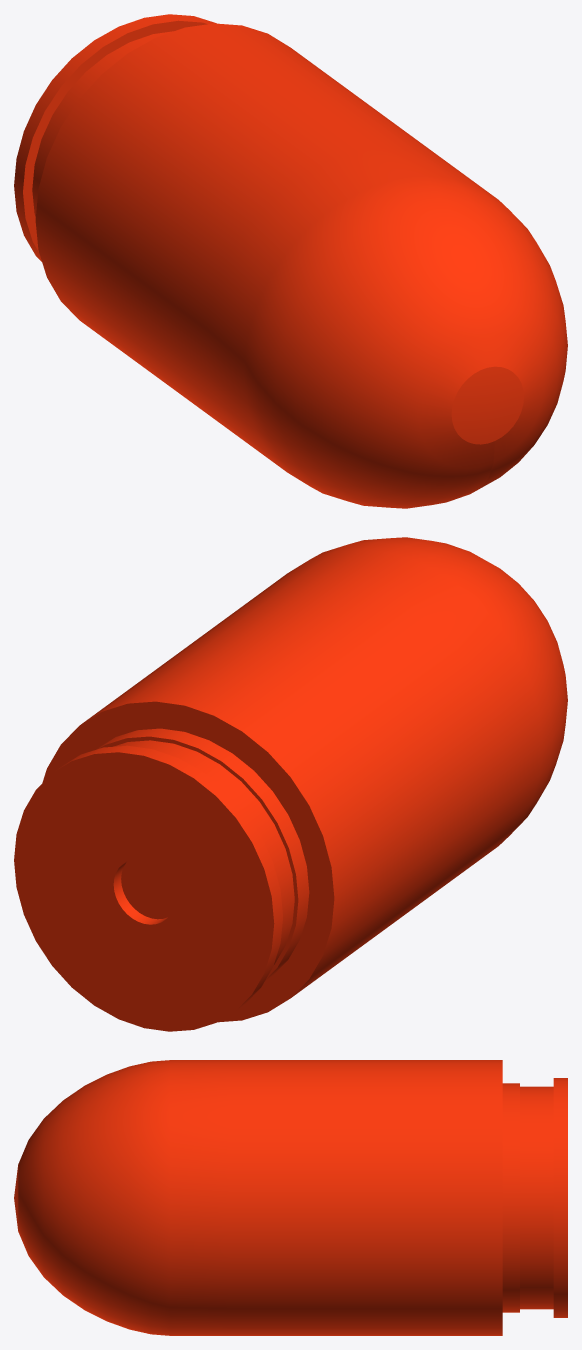
Rendered from GrenadeBullet.fbx.
3 renders of one model, top to bottom at view 1: azimuth 30°, elevation 25°; view 2: azimuth 150°, elevation 25°; view 3: azimuth 270°, elevation 25°, orthographic. The views are drawn at different scales.
Parts seen in each view (by area): view 1: GrenadeBullet; view 2: GrenadeBullet; view 3: GrenadeBullet.
Boxes of the visible parts, x1,y1,x2,y2 form: GrenadeBullet: (14, 14, 567, 508); GrenadeBullet: (14, 537, 567, 1031); GrenadeBullet: (14, 1060, 567, 1335).
Size of the model in its own units: 3.98 by 7.98 by 3.98.
